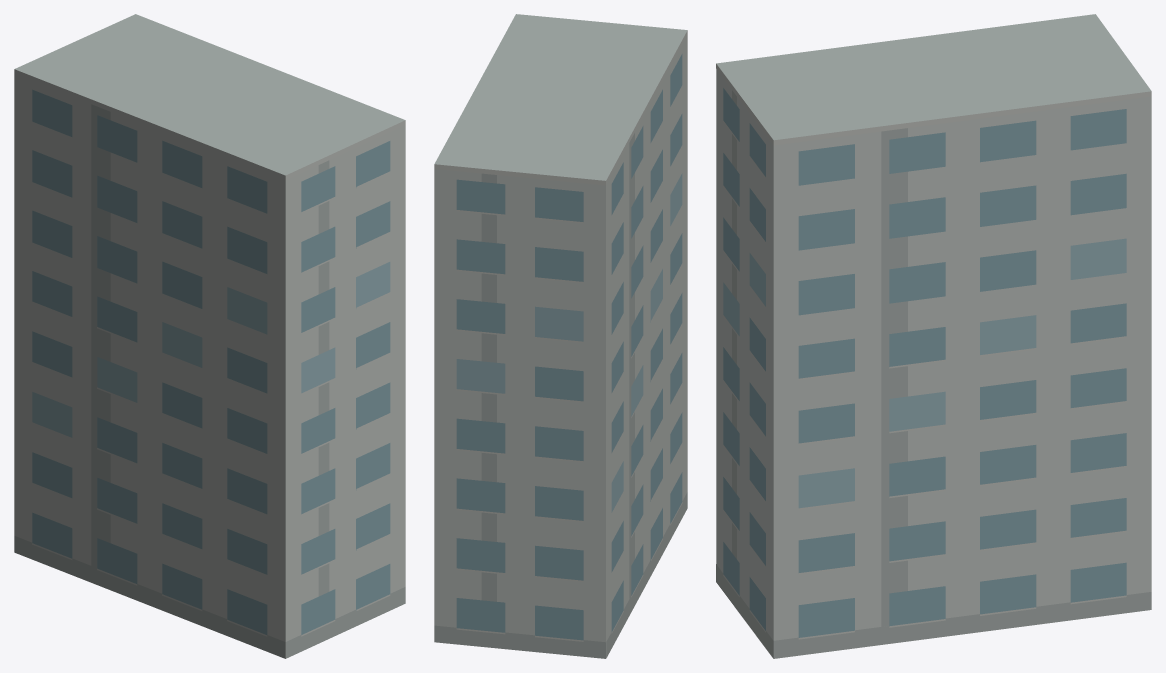
File: survey-upis-32565328.glb
3 renders of one model, left to right at view 1: azimuth 30°, elevation 25°; view 2: azimuth 150°, elevation 25°; view 3: azimuth 270°, elevation 25°, orthographic. The views are drawn at different scales.
Visible parts, largest first — view 1: survey-upis-32565328.tmp; view 2: survey-upis-32565328.tmp; view 3: survey-upis-32565328.tmp.
Part boxes in pixels (bbox=[...]): survey-upis-32565328.tmp: bbox=[14, 14, 405, 658]; survey-upis-32565328.tmp: bbox=[434, 14, 687, 658]; survey-upis-32565328.tmp: bbox=[716, 14, 1151, 658].
Bounding box in the file's own units: 12.75 × 24.4 × 18.58.
